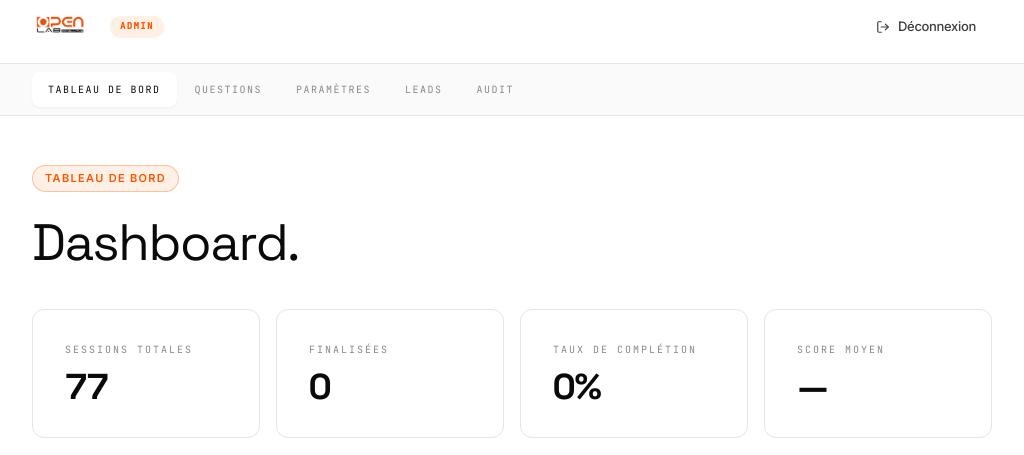
Scenario: AdminDashboard — Settings tab › affiche les paramètres après clic sur l'onglet
This screenshot has width=1024, height=455.
expect the text "77" is shown: met, box [65,364,108,410]
Click the button "Paramètres": (334, 90) [280,72,387,107]
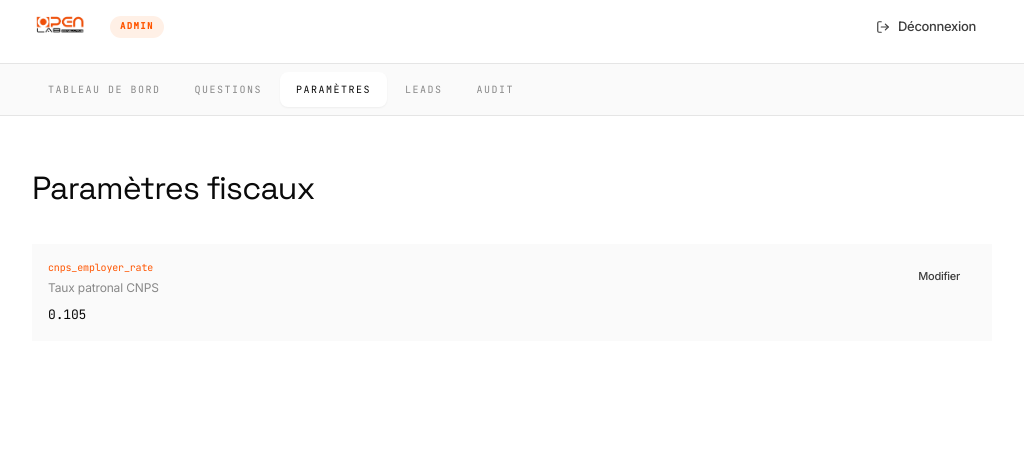
expect the text "cnps_employer_rate" is shown: met, box [48,261,153,274]
